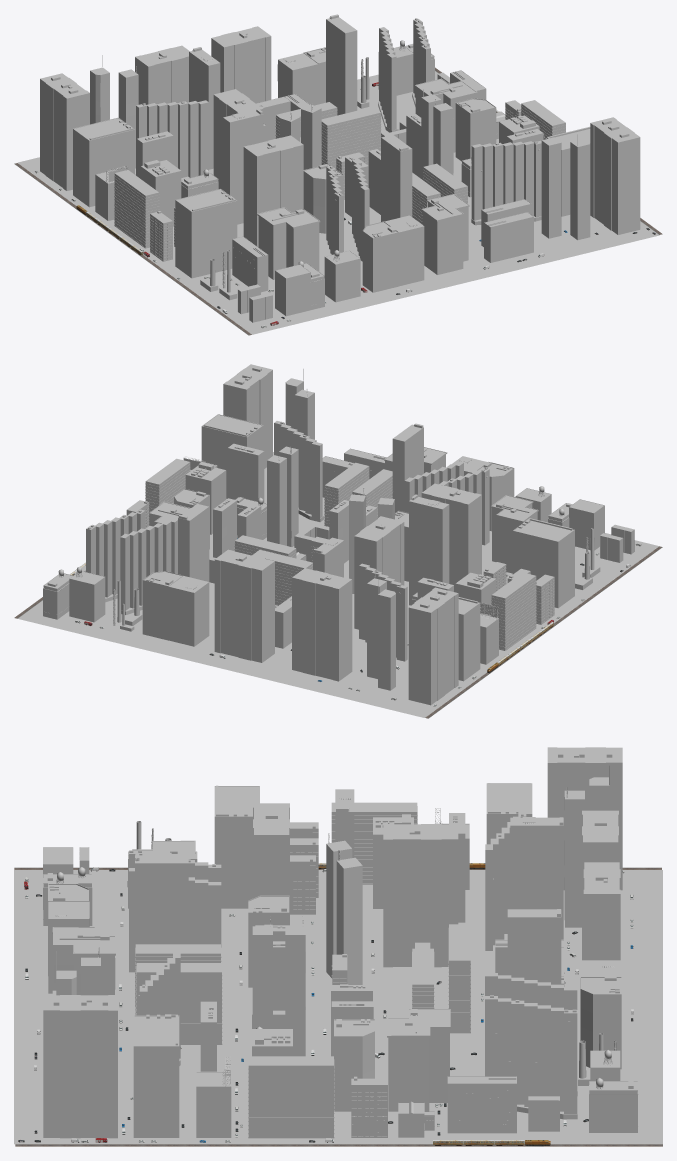
File: city.fbx
3 renders of one model, top to bottom at view 1: azimuth 30°, elevation 25°; view 2: azimuth 150°, elevation 25°; view 3: azimuth 270°, elevation 25°, orthographic. The views are drawn at different scales.
Parts seen in each view (by area): view 1: Plane, Building2, Building2.005, Building12.002, Building3.002, Building2.003, Building12.005, Building3.001, Building2.002, building.018, building.012, Building1.001 (+50 smaller); view 2: Plane, Building2.002, Building2.004, Building2.003, Building3.002, Building1.002, Building12.001, Building2.005, Building2.001, Building2, building.007, Building12 (+45 smaller); view 3: Plane, Building2, Building2.001, Building12, Building5, building.001, Building3, Building1, Building1.003, Building3.002, Building2.003, Building10 (+49 smaller).
Part boxes in pixels (x1,y1,x2,y2): Plane: [18, 71, 659, 334]; Building2: [590, 117, 640, 234]; Building2.005: [243, 135, 303, 247]; Building12.002: [471, 140, 541, 220]; Building3.002: [175, 189, 237, 278]; Building2.003: [40, 73, 89, 190]; Building12.005: [136, 100, 208, 177]; Building3.001: [73, 117, 134, 207]; Building2.002: [211, 26, 271, 103]; building.018: [257, 207, 320, 279]; building.012: [421, 194, 469, 274]; Building1.001: [326, 17, 357, 115]; Plane: [18, 452, 658, 717]; Building2.002: [214, 549, 274, 662]; Building2.004: [292, 568, 352, 681]; Building2.003: [408, 587, 458, 705]; Building3.002: [512, 520, 574, 608]; Building1.002: [409, 497, 449, 605]; Building12.001: [120, 517, 177, 610]; Building2.005: [421, 483, 481, 592]; Building2.001: [354, 516, 404, 629]; Building2: [223, 364, 272, 468]; building.007: [168, 576, 209, 646]; Building12: [86, 509, 145, 597]; Plane: [14, 870, 662, 1144]; Building2: [43, 995, 117, 1138]; Building2.001: [383, 824, 458, 967]; Building12: [485, 996, 577, 1113]; Building5: [248, 1056, 334, 1138]; building.001: [387, 1009, 450, 1111]; Building3: [133, 1015, 179, 1137]; Building1: [510, 817, 563, 939]; Building1.003: [135, 855, 188, 1006]; Building3.002: [214, 786, 259, 908]; Building2.003: [547, 747, 622, 890]; Building10: [447, 1076, 516, 1133].
Bounding box in the file's own units: 40714 × 10379 × 40001.
